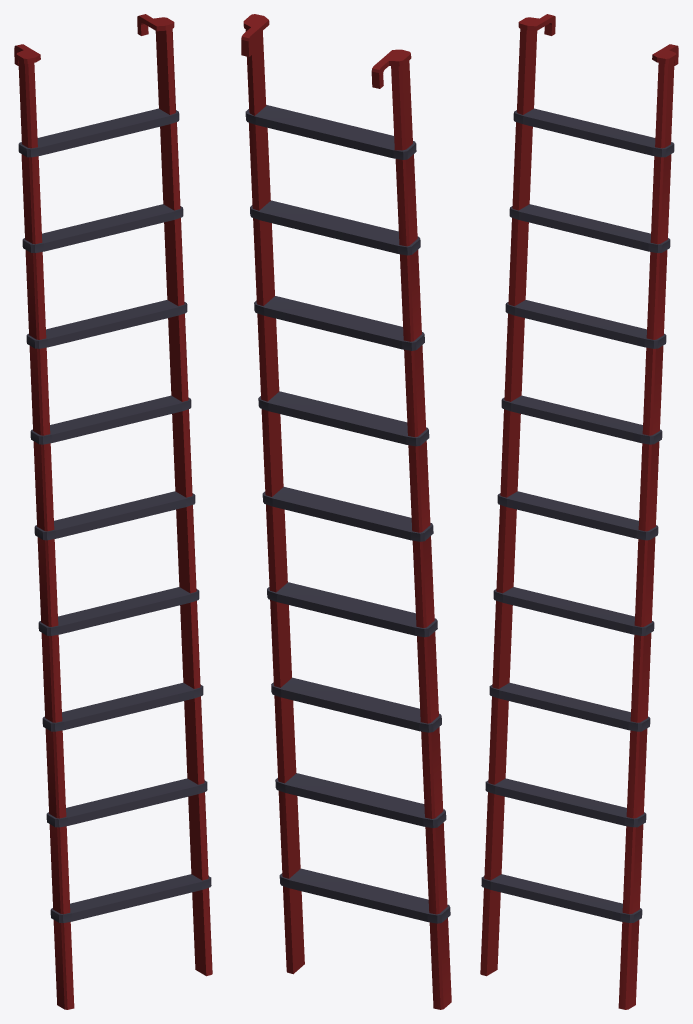
File: Prop_Ladder_Big.fbx
3 renders of one model, left to right at view 1: azimuth 30°, elevation 25°; view 2: azimuth 150°, elevation 25°; view 3: azimuth 330°, elevation 25°, orthographic. The views are drawn at different scales.
Visible parts, largest first — view 1: Prop_Ladder_Big; view 2: Prop_Ladder_Big; view 3: Prop_Ladder_Big.
Part boxes in pixels (x1,y1,x2,y2): Prop_Ladder_Big: (14,14,212,1009); Prop_Ladder_Big: (241,14,451,1009); Prop_Ladder_Big: (480,14,678,1009).
Bounding box in the file's own units: 51.54 × 74.21 × 430.
